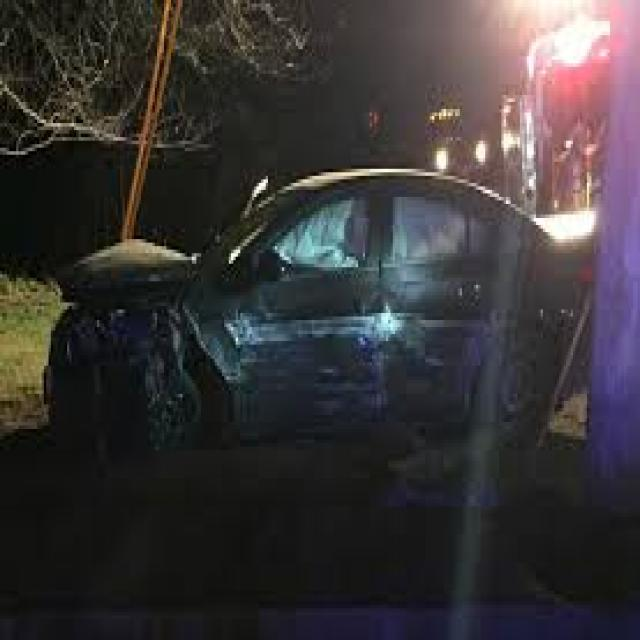moderate: (41, 245, 521, 412)
